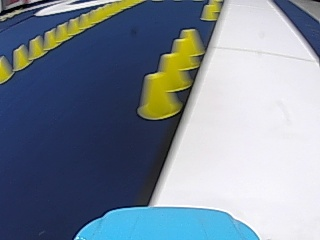cone: (136, 69, 179, 119), (156, 53, 189, 91), (172, 28, 204, 64), (157, 52, 183, 76), (12, 44, 29, 69), (27, 35, 43, 58), (0, 55, 13, 83), (54, 22, 68, 43), (43, 28, 56, 49), (200, 3, 216, 20), (67, 18, 79, 35)
